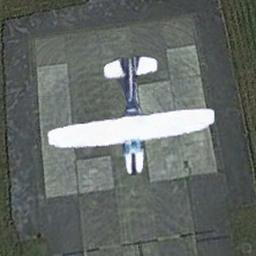Airplane: (46, 51, 215, 176)
